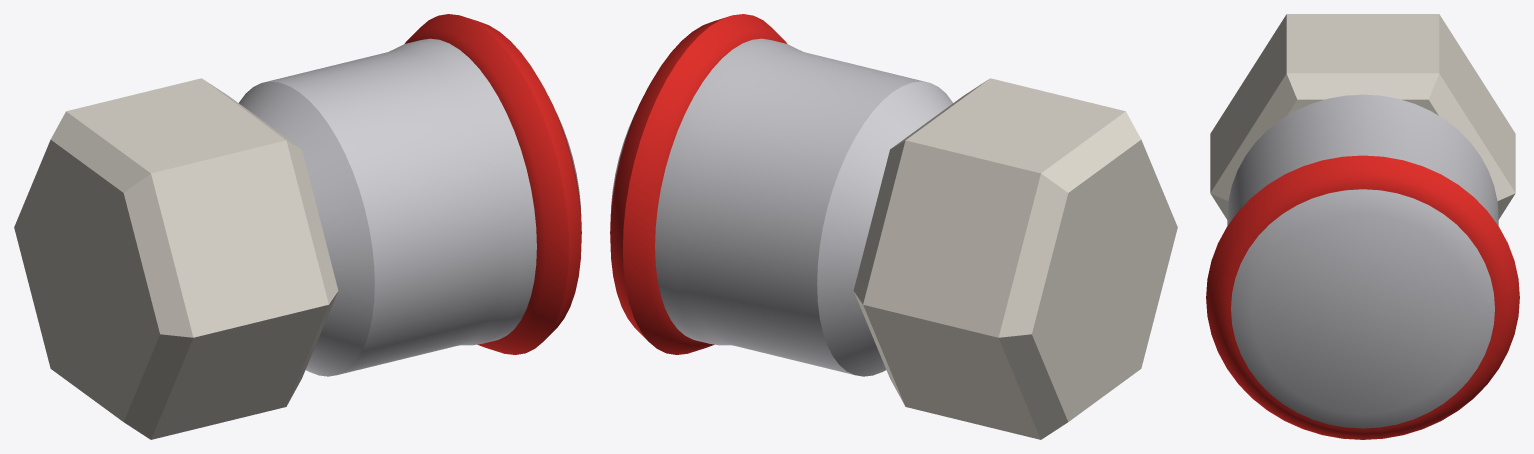
The model's file is fitting_adp_22x34_F_r.glb.
3 renders of one model, left to right at view 1: azimuth 30°, elevation 25°; view 2: azimuth 150°, elevation 25°; view 3: azimuth 270°, elevation 25°, orthographic. The views are drawn at different scales.
Visible parts, largest first — view 1: шестигранник переходника, раструб, кольцо пресс; view 2: шестигранник переходника, раструб, кольцо пресс; view 3: раструб, шестигранник переходника, кольцо пресс.
Part boxes in pixels (bbox=[...]): шестигранник переходника: bbox=[14, 78, 338, 439]; раструб: bbox=[239, 38, 580, 376]; кольцо пресс: bbox=[404, 14, 581, 354]; шестигранник переходника: bbox=[853, 78, 1177, 439]; раструб: bbox=[611, 38, 952, 376]; кольцо пресс: bbox=[610, 14, 787, 354]; раструб: bbox=[1227, 94, 1498, 428]; шестигранник переходника: bbox=[1210, 14, 1515, 219]; кольцо пресс: bbox=[1206, 155, 1519, 439].
Size of the model in its own units: 0.051 by 0.0356 by 0.0356.
